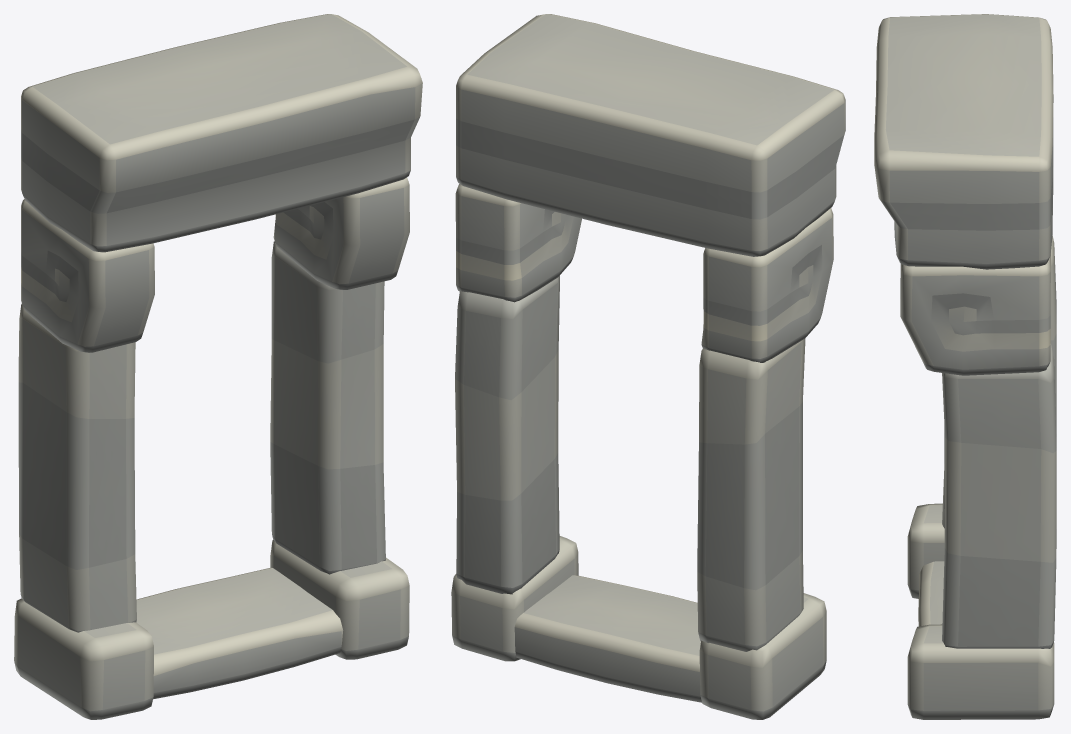
The model's file is door_frame_ornate_stone_LOD_setup.fbx.
3 renders of one model, left to right at view 1: azimuth 30°, elevation 25°; view 2: azimuth 150°, elevation 25°; view 3: azimuth 270°, elevation 25°, orthographic. The views are drawn at different scales.
Parts seen in each view (by area): view 1: door_frame_ornate_stone_LOD0; view 2: door_frame_ornate_stone_LOD0; view 3: door_frame_ornate_stone_LOD0.
Part boxes in pixels (x1,y1,x2,y2): door_frame_ornate_stone_LOD0: [14, 14, 422, 719]; door_frame_ornate_stone_LOD0: [451, 14, 845, 719]; door_frame_ornate_stone_LOD0: [874, 14, 1056, 719].
Size of what is drawn, in the model's own units: 158 by 275 by 79.92.
